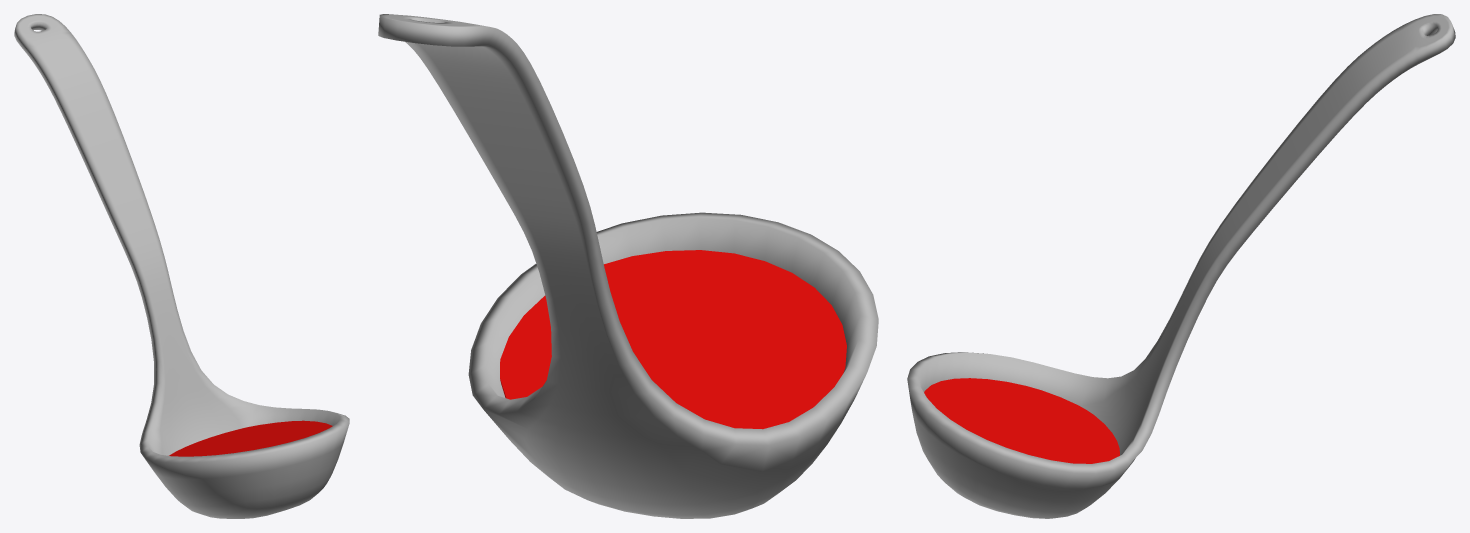
The model's file is tomato_ladle.fbx.
3 views of the same model, side by side, from view 1: azimuth 30°, elevation 25°; view 2: azimuth 150°, elevation 25°; view 3: azimuth 270°, elevation 25° (orthographic). The views are drawn at different scales.
Visible parts, largest first — view 1: ladle, tomato_souce; view 2: ladle, tomato_souce; view 3: ladle, tomato_souce.
Part boxes in pixels (x1,y1,x2,y2): ladle: (14,14,349,518); tomato_souce: (169,420,332,456); ladle: (378,14,878,518); tomato_souce: (500,250,846,429); ladle: (907,14,1455,518); tomato_souce: (924,378,1119,463).
Size of the model in its own units: 17.62 by 34.92 by 38.09.
